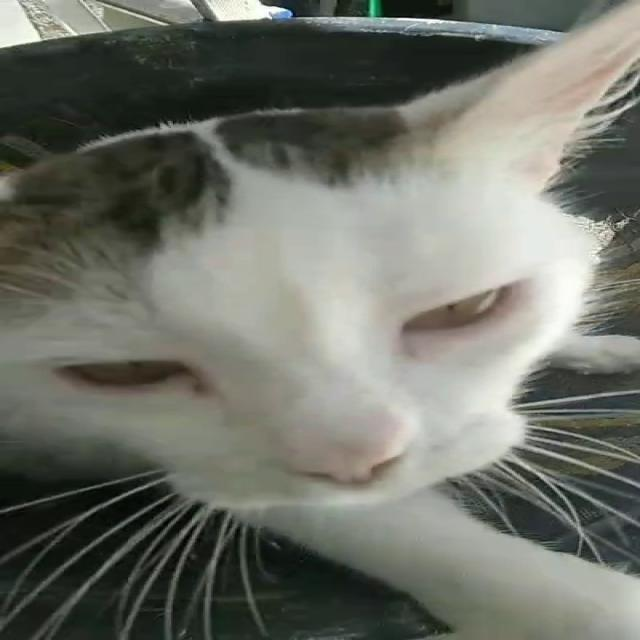Simba: (0, 1, 638, 639)
